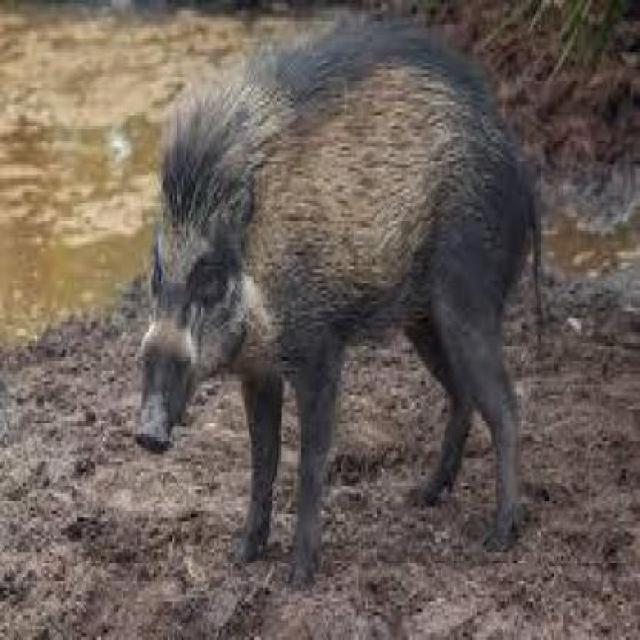wildboar: (125, 8, 558, 598)
